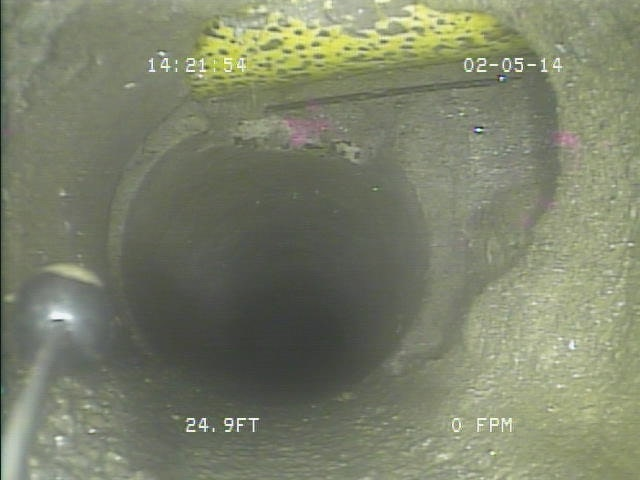cb: (132, 3, 568, 110)
